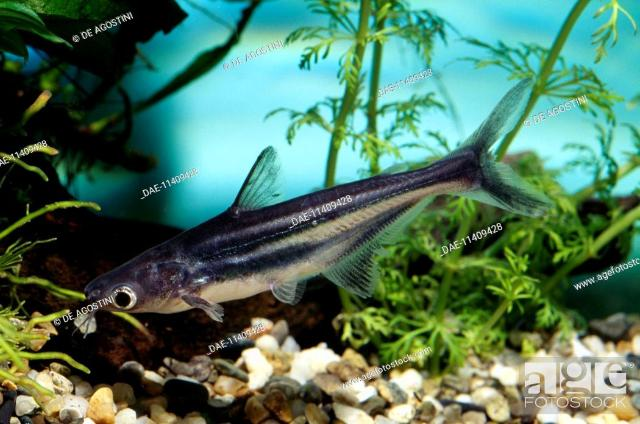Sirip Anal: (320, 186, 444, 302)
Sirip Dada: (175, 280, 233, 330)
Sirip Ekor: (462, 70, 566, 234)
Sirip Perut: (268, 264, 314, 316)
Sirip Punggung: (213, 139, 291, 215)
